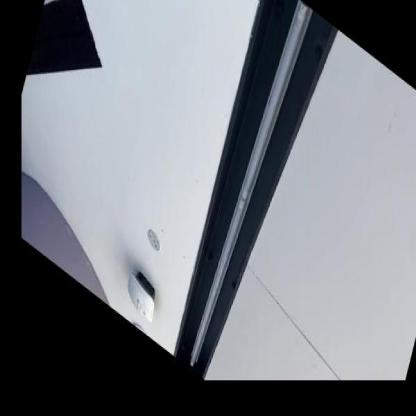light_off: (182, 0, 322, 392)
